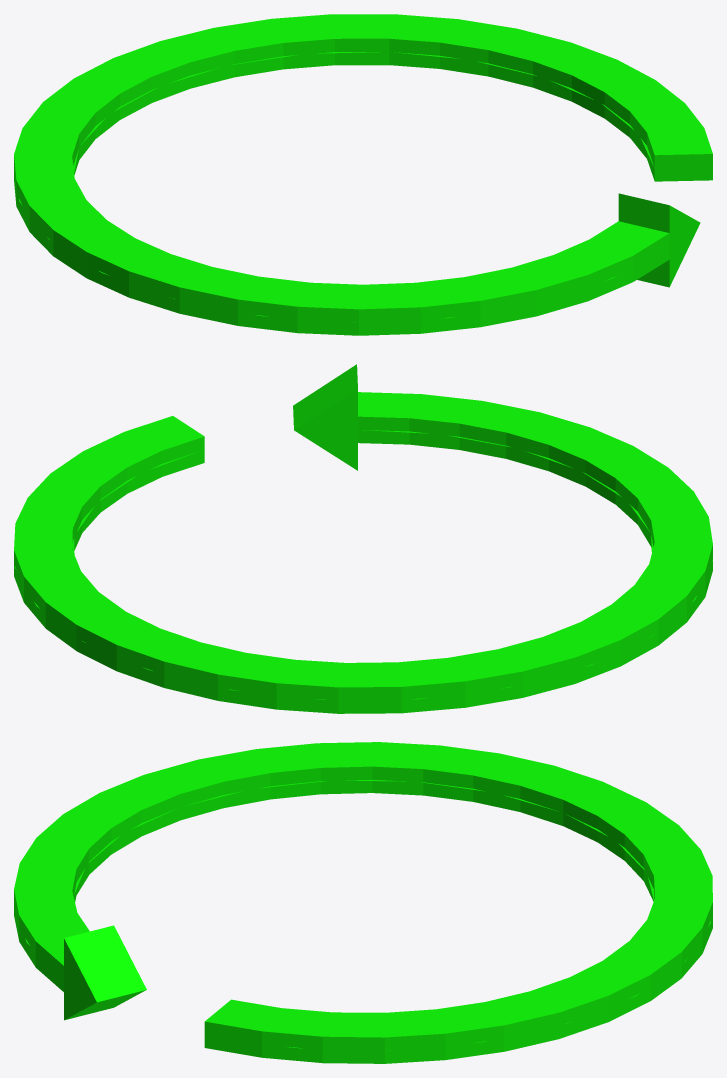
File: rotationArrow.fbx
3 views of the same model, one above another, from view 1: azimuth 30°, elevation 25°; view 2: azimuth 150°, elevation 25°; view 3: azimuth 270°, elevation 25° (orthographic).
Parts seen in each view (by area): view 1: Walls; view 2: Walls; view 3: Walls.
Boxes of the visible parts, <box> form: Walls: <box>14,14,712,335</box>; Walls: <box>14,364,712,713</box>; Walls: <box>14,742,712,1063</box>.
Bounding box in the file's own units: 2.4 × 0.3113 × 2.4.
